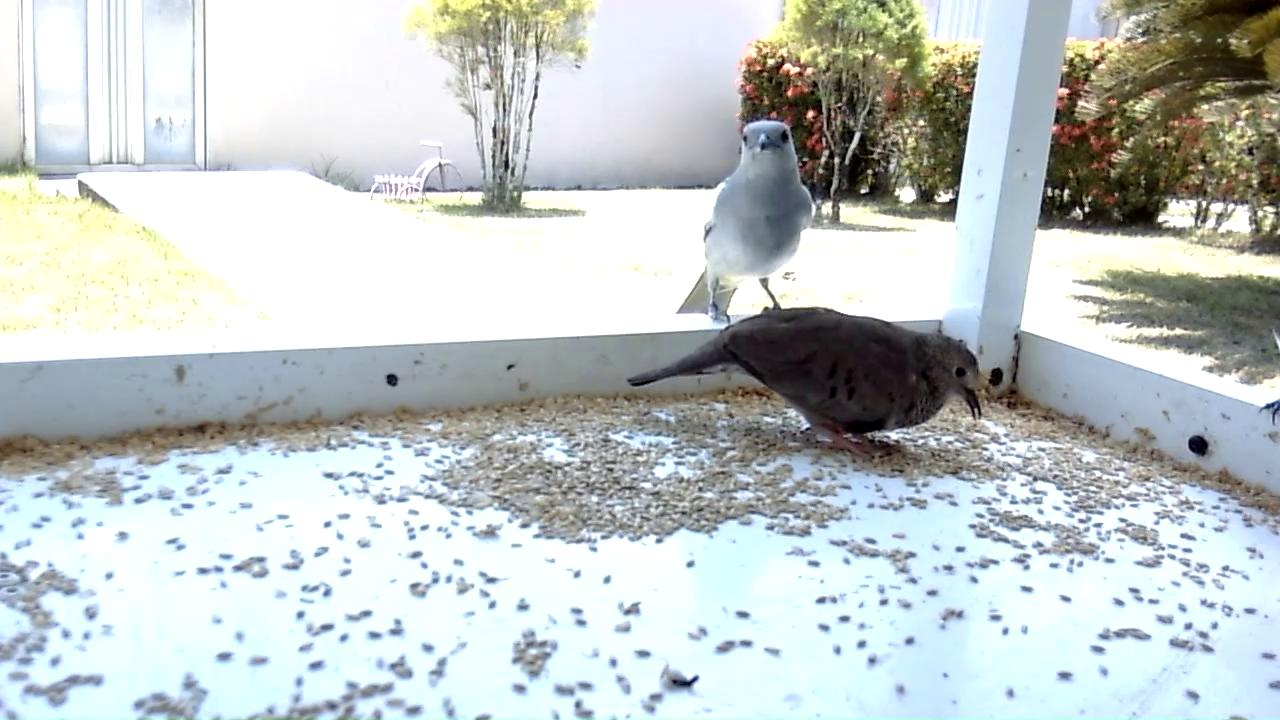rolinha: (627, 307, 984, 459)
sanhaco_da_amazonia: (677, 120, 819, 323)
